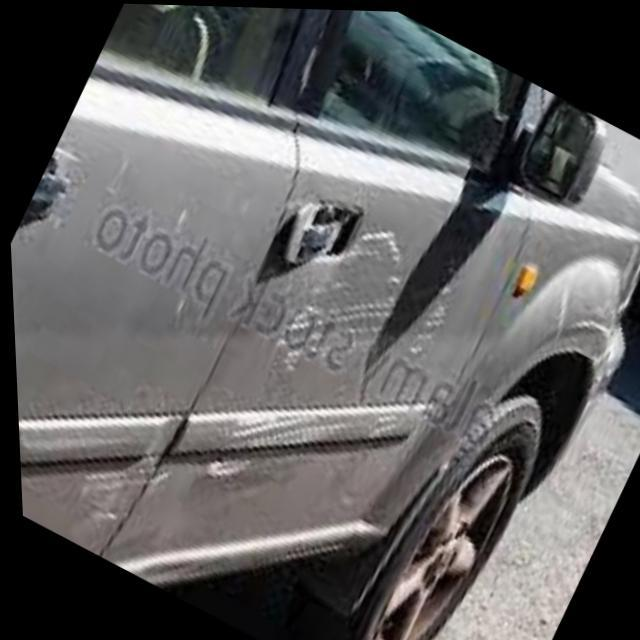rub: (257, 223, 450, 383), (203, 401, 400, 484), (61, 451, 163, 535)
